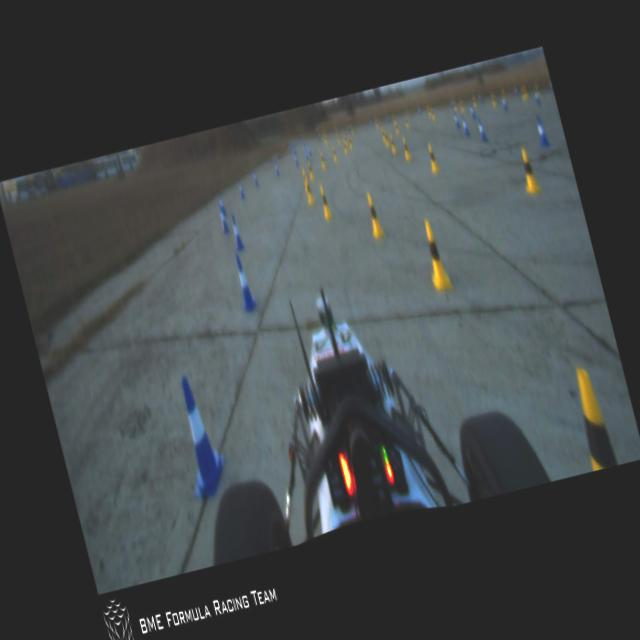blue_cone: (168, 370, 234, 501), (230, 252, 258, 312), (530, 110, 550, 150), (228, 213, 245, 250), (215, 205, 229, 233), (475, 115, 488, 143), (215, 192, 226, 216), (460, 112, 470, 136), (236, 179, 246, 200), (451, 110, 460, 130), (466, 100, 476, 118), (500, 92, 508, 110), (532, 86, 540, 104), (272, 159, 280, 176), (250, 170, 258, 186), (292, 150, 300, 166), (302, 148, 310, 161)
yellow_cone: (565, 361, 619, 471), (417, 218, 453, 294), (516, 144, 541, 195), (360, 191, 384, 240), (316, 184, 333, 222), (426, 143, 440, 175), (304, 176, 316, 204), (400, 136, 412, 160), (300, 168, 310, 191), (306, 160, 316, 182), (388, 134, 398, 156), (318, 150, 327, 170), (382, 129, 390, 148), (330, 144, 338, 162), (489, 91, 497, 109), (346, 134, 354, 150), (428, 104, 436, 120), (518, 84, 526, 100), (341, 138, 348, 154), (379, 128, 386, 142), (394, 121, 401, 135), (458, 100, 465, 112), (472, 95, 478, 108), (403, 114, 408, 127), (335, 132, 340, 144)
